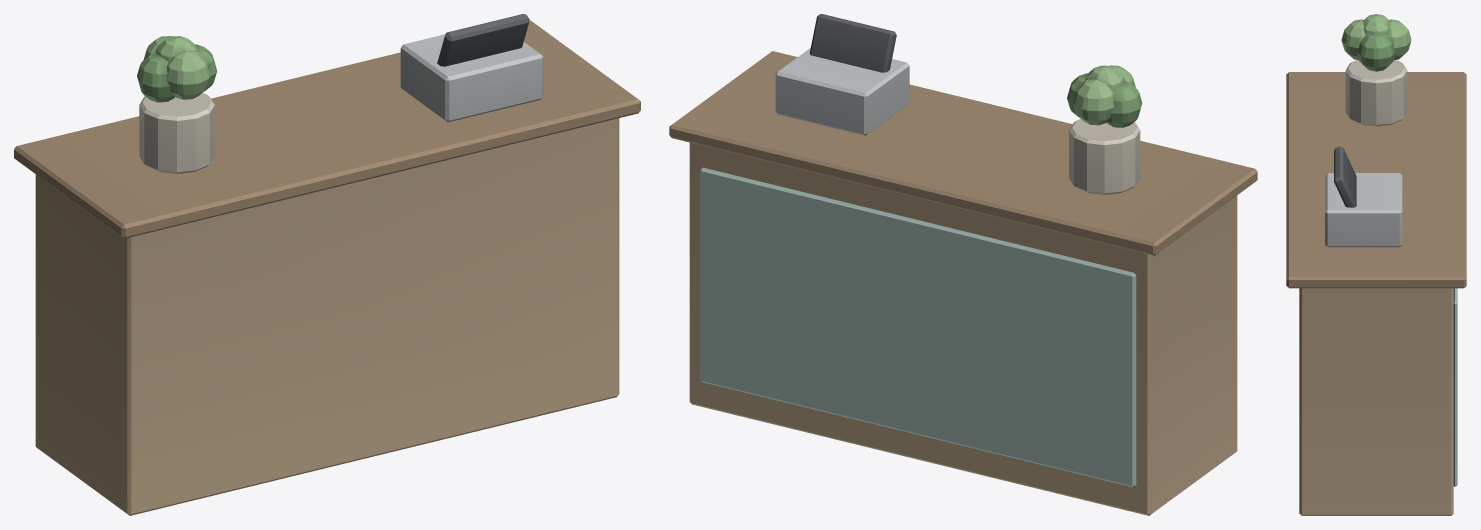
File: shop_checkout.glb
3 views of the same model, side by side, from view 1: azimuth 30°, elevation 25°; view 2: azimuth 150°, elevation 25°; view 3: azimuth 270°, elevation 25° (orthographic). The views are drawn at different scales.
Bounding box in the file's own units: 1.9 × 1.47 × 0.7.
